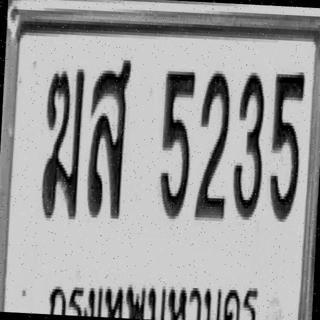A06: (39, 65, 85, 222)
A40: (84, 54, 132, 220)
N02: (193, 68, 232, 223)
N03: (230, 69, 267, 220)
N05: (157, 66, 196, 221), (268, 68, 306, 222)
